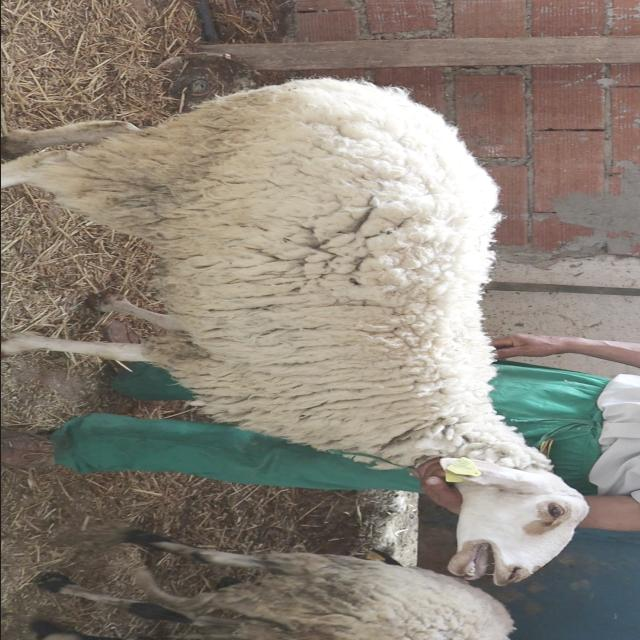Score_4: (1, 78, 588, 585)
